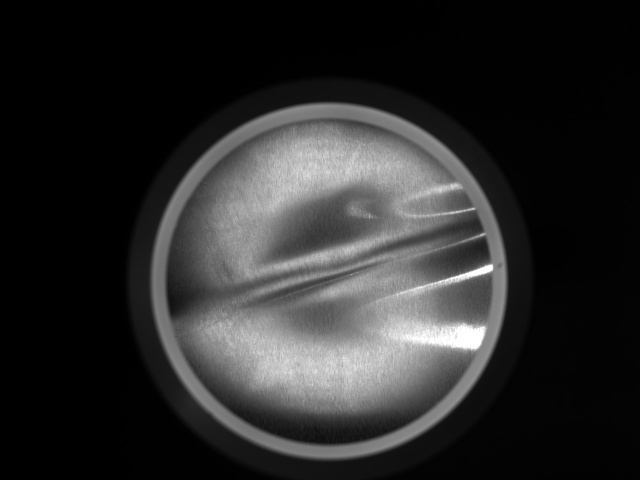zhe_zhou: (214, 143, 448, 415)
